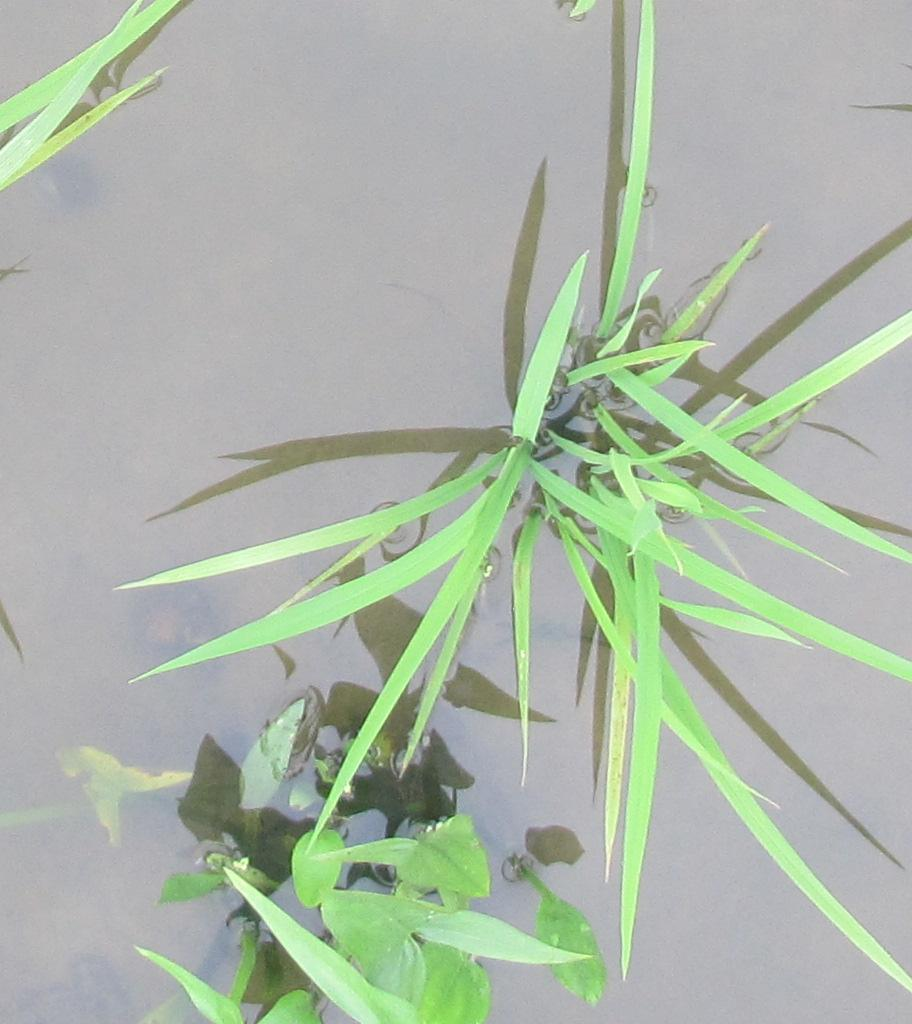Weed: (294, 828, 625, 1019)
